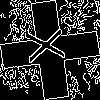X: (25, 25, 75, 65)
